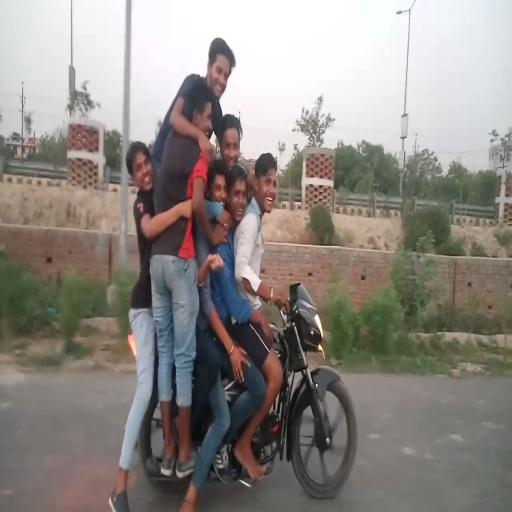overloading: (134, 278, 359, 504)
